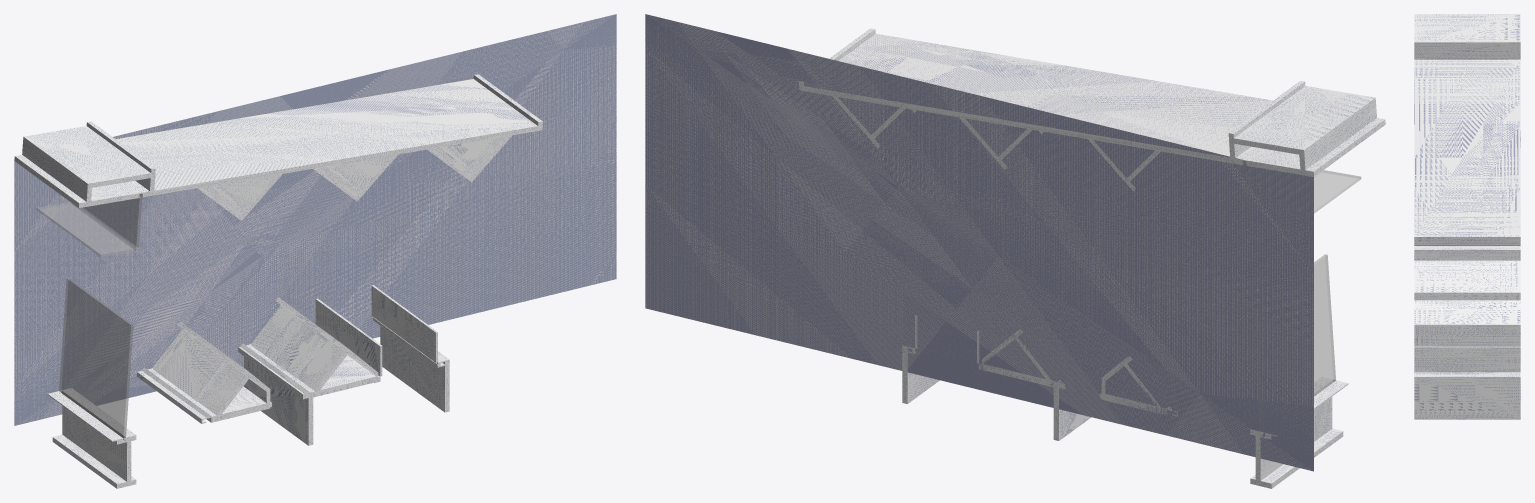
File: corridor.obj
3 renders of one model, left to right at view 1: azimuth 30°, elevation 25°; view 2: azimuth 150°, elevation 25°; view 3: azimuth 270°, elevation 25°, orthographic. The views are drawn at different scales.
Visible parts, largest first — view 1: Mesh45 skpLCn5FK1 Model, Mesh7 Obj_000009_1 skpLCn5FK1 Model, Mesh42 Obj_000046_1 skpLCn5FK1 Model, Mesh36 Obj_000038_1 skpLCn5FK1 Model, Mesh12 Obj_000014_1 skpLCn5FK1 Model, Mesh40 Obj_000042_1 skpLCn5FK1 Model, Mesh39 Obj_000041_1 skpLCn5FK1 Model, Mesh13 Obj_000015_1 skpLCn5FK1 Model, Mesh44 Obj_000048_1 skpLCn5FK1 Model, Mesh9 Obj_000011_1 skpLCn5FK1 Model, Mesh27 Obj_000029_1 skpLCn5FK1 Model, Mesh23 Obj_000025_1 skpLCn5FK1 Model (+7 smaller); view 2: Mesh45 skpLCn5FK1 Model, Mesh7 Obj_000009_1 skpLCn5FK1 Model, Mesh36 Obj_000038_1 skpLCn5FK1 Model, Mesh42 Obj_000046_1 skpLCn5FK1 Model, Mesh44 Obj_000048_1 skpLCn5FK1 Model, Mesh13 Obj_000015_1 skpLCn5FK1 Model, Mesh12 Obj_000014_1 skpLCn5FK1 Model; view 3: Mesh7 Obj_000009_1 skpLCn5FK1 Model, Mesh12 Obj_000014_1 skpLCn5FK1 Model, Mesh3 Obj_000004_1 skpLCn5FK1 Model, Mesh9 Obj_000011_1 skpLCn5FK1 Model, Mesh8 Obj_000010_1 skpLCn5FK1 Model, Mesh36 Obj_000038_1 skpLCn5FK1 Model, Mesh2 Obj_000003_1 skpLCn5FK1 Model, Mesh27 Obj_000029_1 skpLCn5FK1 Model, Mesh23 Obj_000025_1 skpLCn5FK1 Model, Mesh11 Obj_000013_1 skpLCn5FK1 Model, Mesh29 Obj_000031_1 skpLCn5FK1 Model, Mesh42 Obj_000046_1 skpLCn5FK1 Model.
Boxes of the visible parts, x1,y1,x2,y2 form: Mesh45 skpLCn5FK1 Model: (14,14,616,425); Mesh7 Obj_000009_1 skpLCn5FK1 Model: (14,74,542,207); Mesh42 Obj_000046_1 skpLCn5FK1 Model: (59,277,133,441); Mesh36 Obj_000038_1 skpLCn5FK1 Model: (47,388,136,488); Mesh12 Obj_000014_1 skpLCn5FK1 Model: (380,326,449,412); Mesh40 Obj_000042_1 skpLCn5FK1 Model: (251,308,324,377); Mesh39 Obj_000041_1 skpLCn5FK1 Model: (153,332,226,401); Mesh13 Obj_000015_1 skpLCn5FK1 Model: (244,356,313,445); Mesh44 Obj_000048_1 skpLCn5FK1 Model: (36,202,135,256); Mesh9 Obj_000011_1 skpLCn5FK1 Model: (371,285,437,362); Mesh27 Obj_000029_1 skpLCn5FK1 Model: (152,321,252,415); Mesh23 Obj_000025_1 skpLCn5FK1 Model: (251,297,350,391); Mesh45 skpLCn5FK1 Model: (645,14,1313,471); Mesh7 Obj_000009_1 skpLCn5FK1 Model: (798,28,1385,176); Mesh36 Obj_000038_1 skpLCn5FK1 Model: (1250,377,1348,488); Mesh42 Obj_000046_1 skpLCn5FK1 Model: (1253,254,1335,436); Mesh44 Obj_000048_1 skpLCn5FK1 Model: (1251,170,1361,230); Mesh13 Obj_000015_1 skpLCn5FK1 Model: (1053,382,1090,440); Mesh12 Obj_000014_1 skpLCn5FK1 Model: (902,346,939,403); Mesh7 Obj_000009_1 skpLCn5FK1 Model: (1414,14,1520,243); Mesh12 Obj_000014_1 skpLCn5FK1 Model: (1414,378,1520,419); Mesh3 Obj_000004_1 skpLCn5FK1 Model: (1414,270,1520,300); Mesh9 Obj_000011_1 skpLCn5FK1 Model: (1414,346,1520,372); Mesh8 Obj_000010_1 skpLCn5FK1 Model: (1414,324,1520,346); Mesh36 Obj_000038_1 skpLCn5FK1 Model: (1414,244,1520,260); Mesh2 Obj_000003_1 skpLCn5FK1 Model: (1414,310,1520,323); Mesh27 Obj_000029_1 skpLCn5FK1 Model: (1414,260,1520,270); Mesh23 Obj_000025_1 skpLCn5FK1 Model: (1414,300,1520,309); Mesh11 Obj_000013_1 skpLCn5FK1 Model: (1414,372,1520,377); Mesh29 Obj_000031_1 skpLCn5FK1 Model: (1414,243,1520,244); Mesh42 Obj_000046_1 skpLCn5FK1 Model: (1414,244,1520,245).
Bounding box in the file's own units: 411 × 206 × 76.2.
